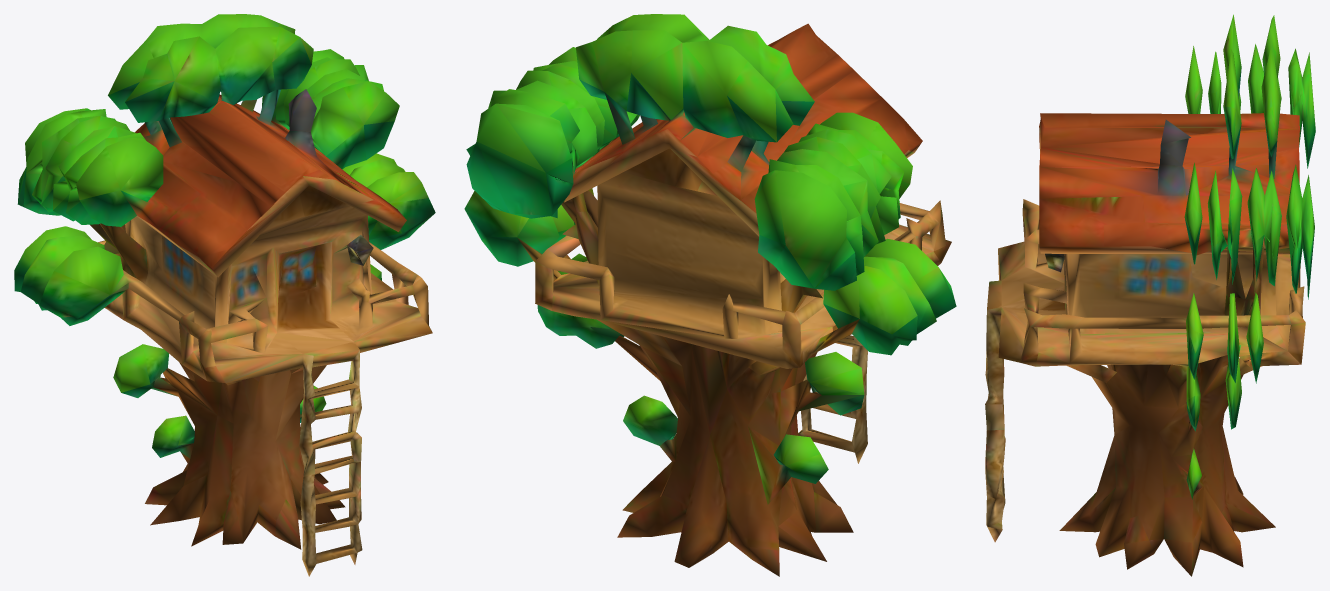
Rendered from treehouse.glb.
3 renders of one model, left to right at view 1: azimuth 30°, elevation 25°; view 2: azimuth 150°, elevation 25°; view 3: azimuth 270°, elevation 25°, orthographic. The views are drawn at different scales.
Visible parts, largest first — view 1: model; view 2: model; view 3: model.
Part boxes in pixels (left/top/right/bottom): model: left=14, top=14, right=435, bottom=576; model: left=464, top=14, right=956, bottom=576; model: left=985, top=14, right=1315, bottom=576.
Bounding box in the file's own units: 1.71 × 1.9 × 1.15.
Materials: 1 (1 with a texture image).
